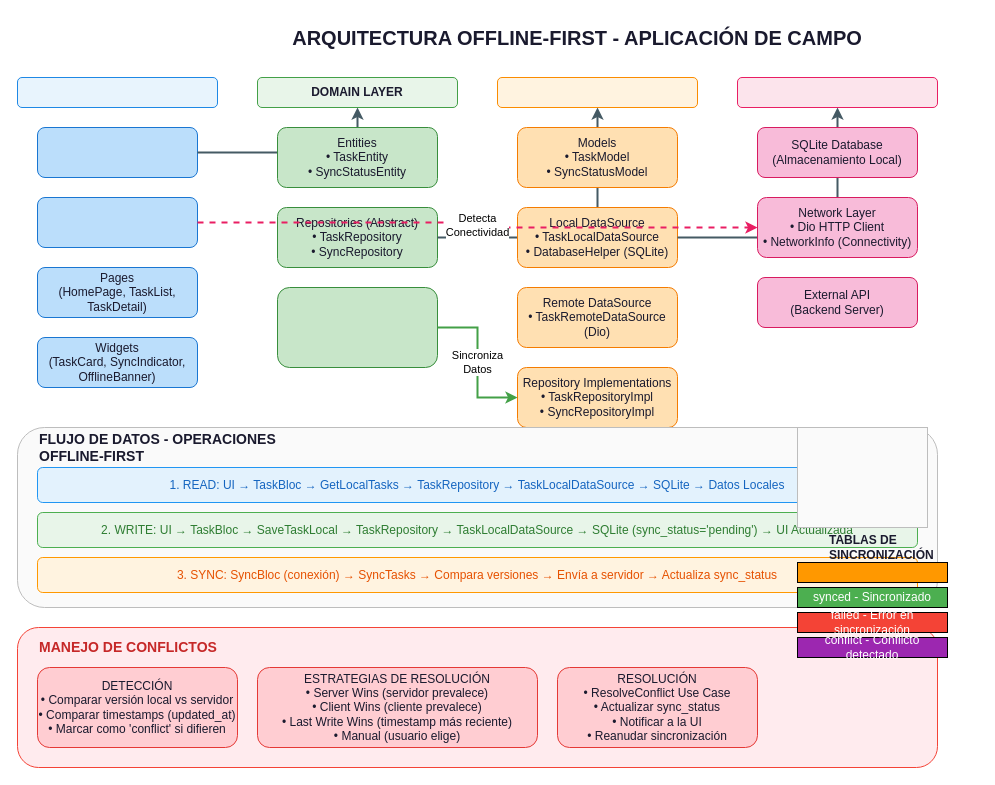
The diagram is 995 pixels wide and 785 high, and some of its shapes have lost their labels. Here are the shapes that lost their labels. From the top down, the centre of each, then its label:
(x=117, y=92): PRESENTATION LAYER
(x=597, y=92): DATA LAYER
(x=837, y=92): INFRASTRUCTURE LAYER
(x=117, y=152): TaskBloc (Gestión de Estado Tareas)
(x=117, y=222): SyncBloc (Gestión de Sincronización)
(x=357, y=327): Use Cases • GetLocalTasks • SaveTaskLocal • SyncTasks • ResolveConflict
(x=862, y=477): LEYENDA: ■ Capa Presentación ■ Capa Dominio ■ Capa Datos ■ Capa Infraestructura
(x=872, y=572): pending - Pendiente de sincronizar
